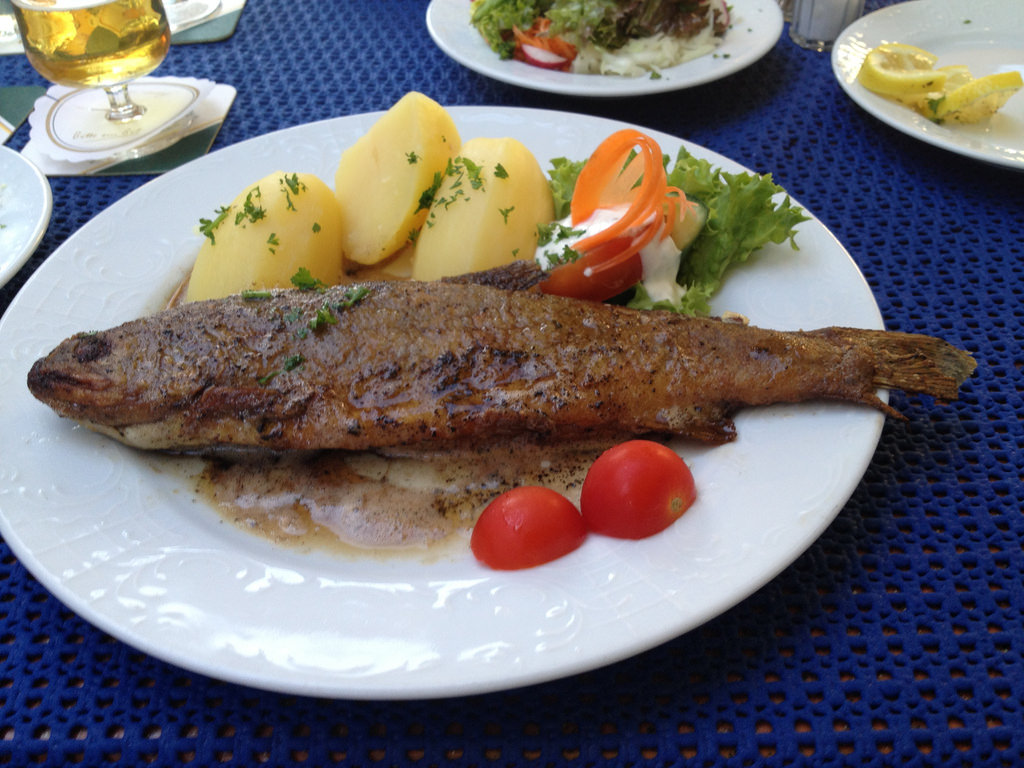boiled potatoes: (343, 102, 559, 270), (178, 166, 352, 302)
